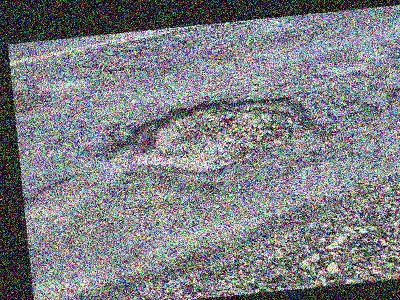pothole: (102, 87, 331, 187)
